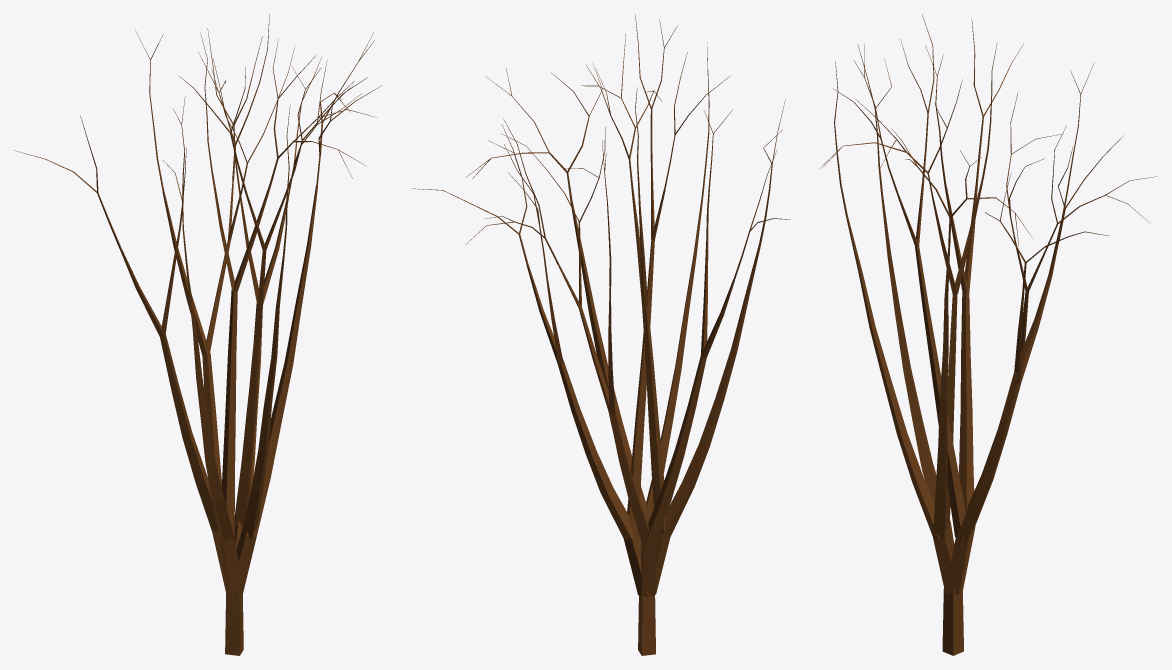
The model's file is tree.glb.
3 renders of one model, left to right at view 1: azimuth 30°, elevation 25°; view 2: azimuth 150°, elevation 25°; view 3: azimuth 270°, elevation 25°, orthographic. The views are drawn at different scales.
Visible parts, largest first — view 1: tree.001; view 2: tree.001; view 3: tree.001.
Boxes of the visible parts, x1=… form: tree.001: x1=14, y1=14, x2=382, y2=655; tree.001: x1=411, y1=14, x2=790, y2=655; tree.001: x1=819, y1=14, x2=1157, y2=655.
Size of the model in its own units: 2.13 by 3.57 by 1.79.
